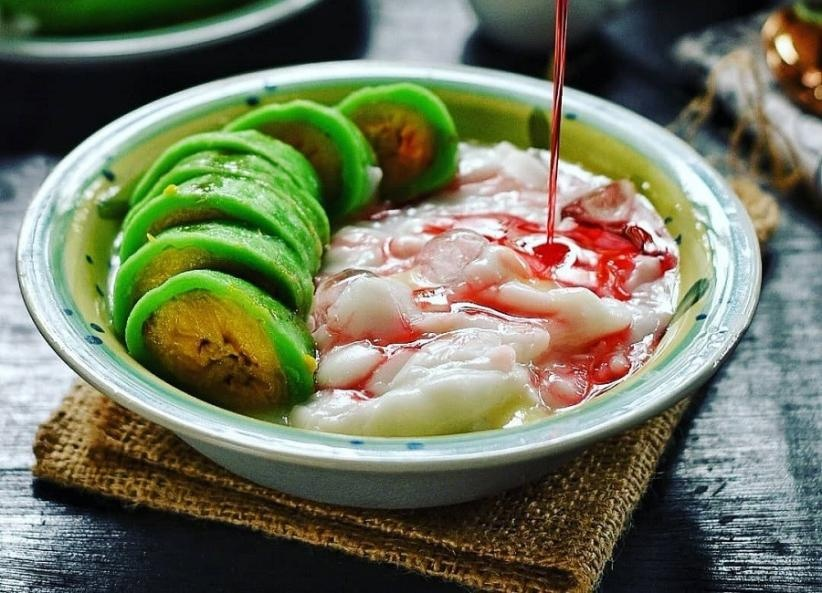es_pisang_ijo: (109, 83, 683, 436)
